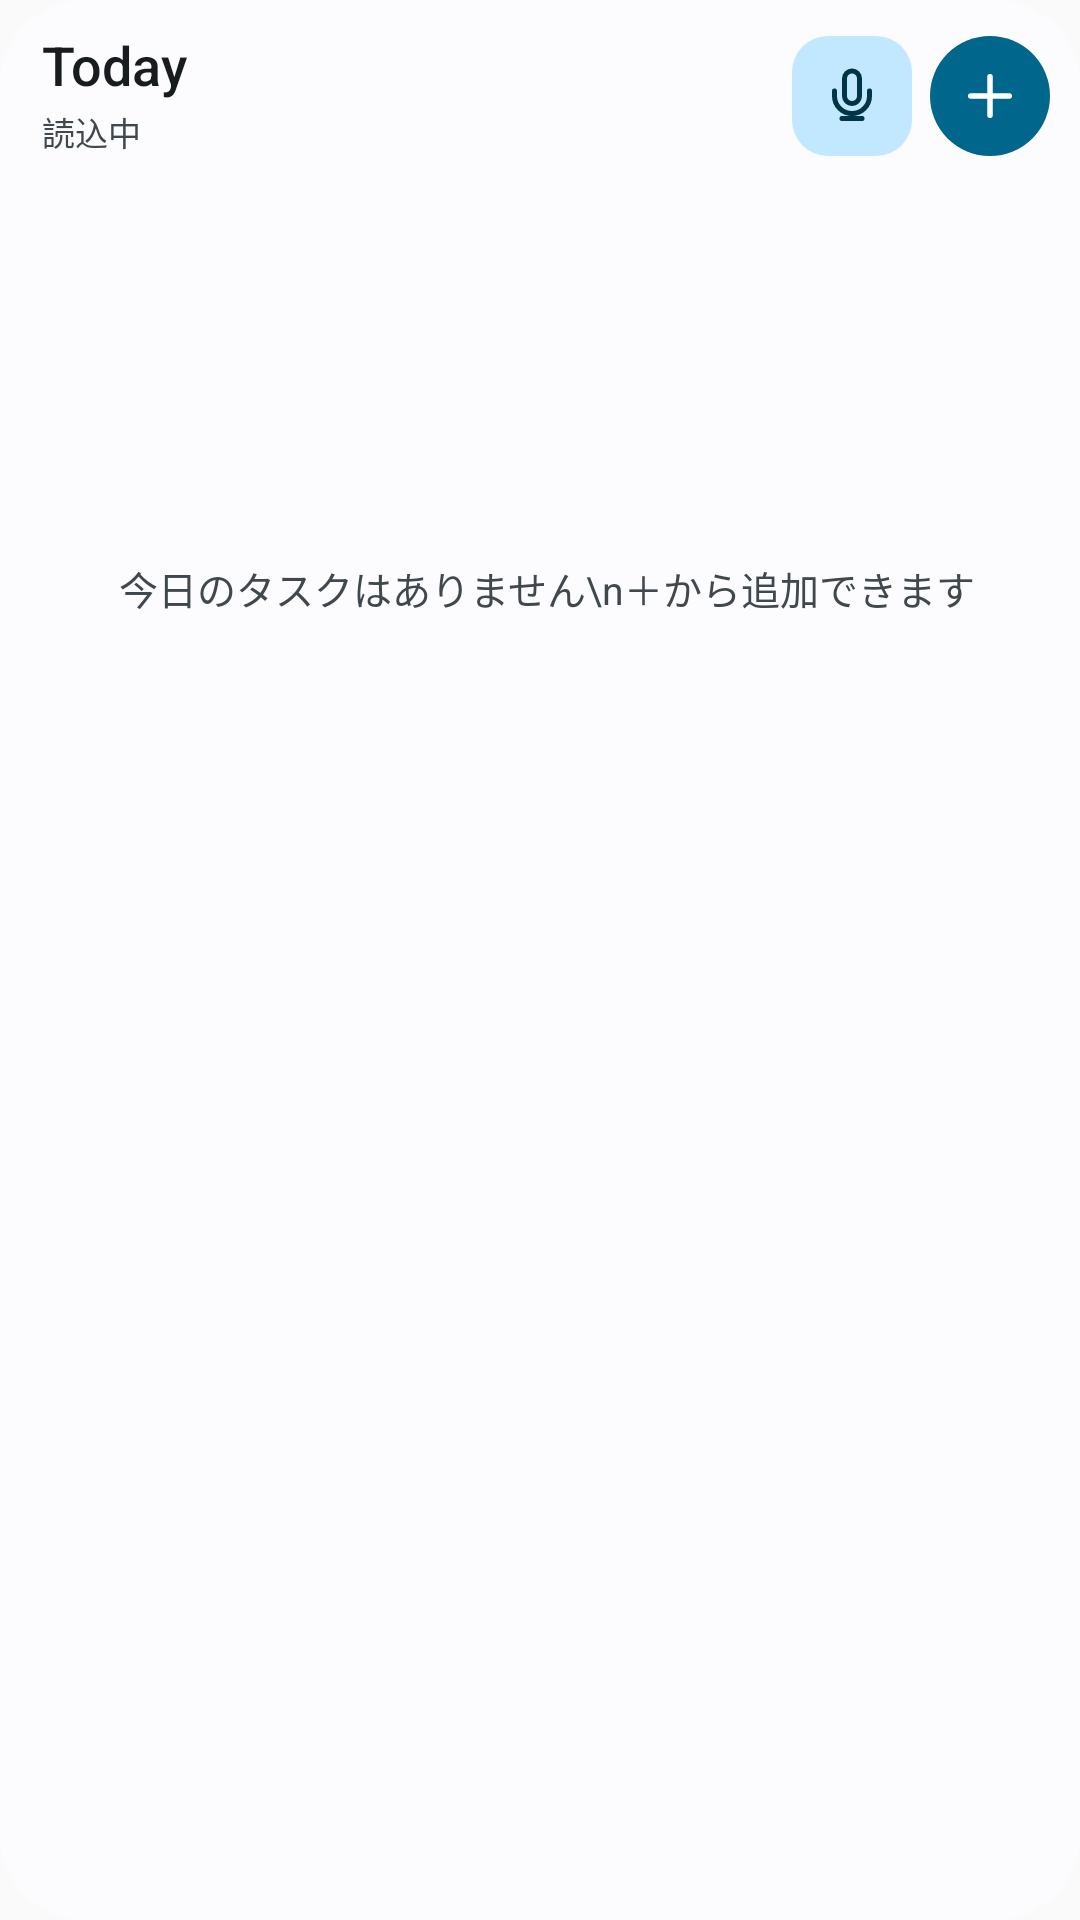

Screen size 1080x1920. Icon name, then its box in pixels as (x1, y1, x2, y2):
Taskを追加: (930, 36, 1050, 156)
音声で追加: (792, 36, 912, 156)
